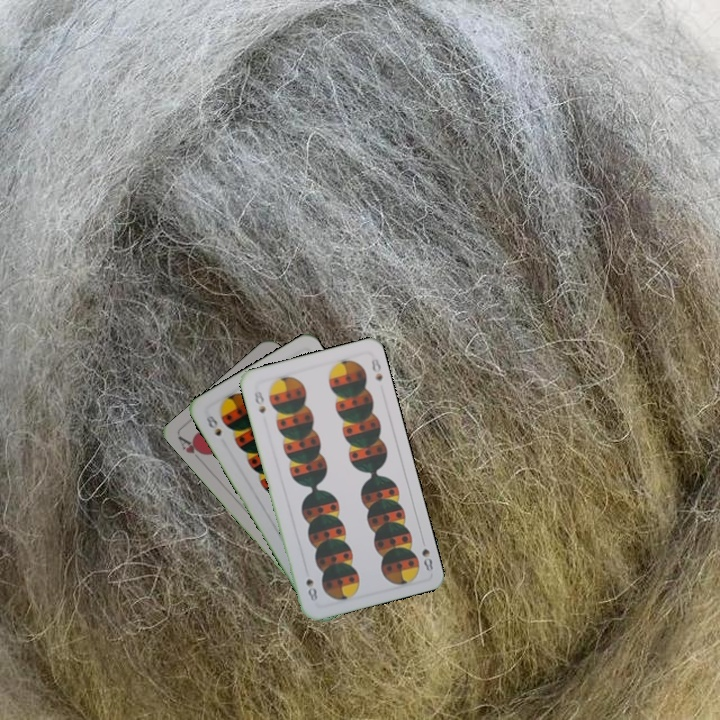HA: (174, 433, 209, 466)
S8: (417, 534, 436, 574), (201, 409, 224, 439), (250, 387, 268, 416)
